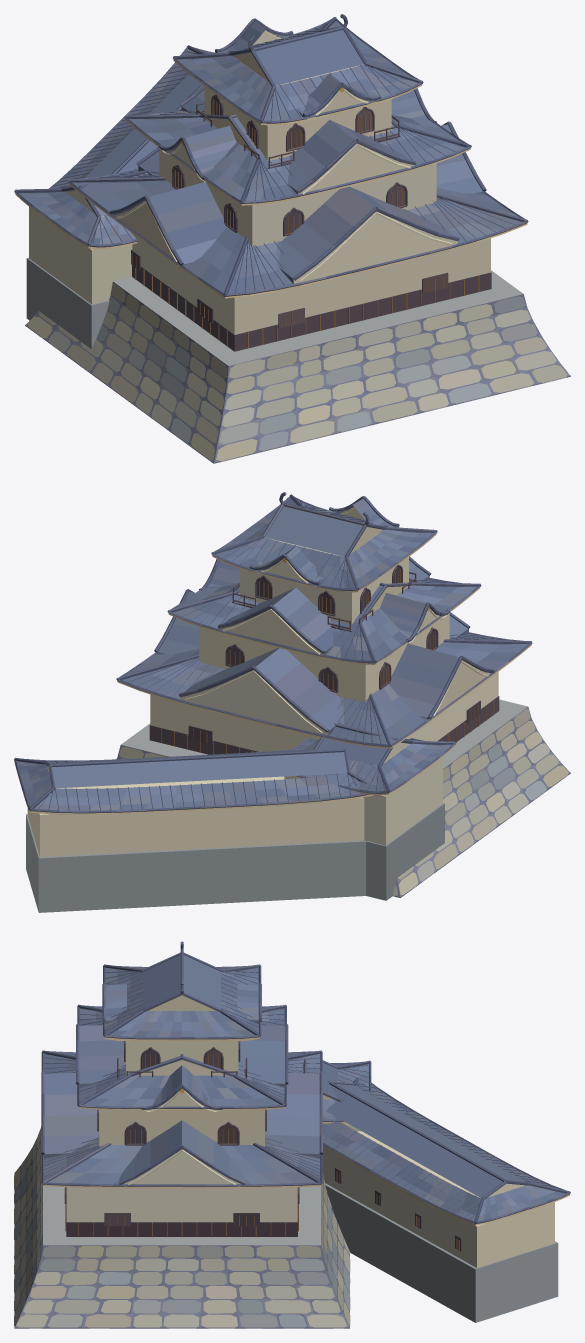
The model's file is ART_HikoneKeep.glb.
The picture shows the model from 3 angles, top to bottom: view 1: azimuth 30°, elevation 25°; view 2: azimuth 150°, elevation 25°; view 3: azimuth 270°, elevation 25°; orthographic projection. The views are drawn at different scales.
Parts seen in each view (by area): view 1: ART_HikoneKeep; view 2: ART_HikoneKeep; view 3: ART_HikoneKeep.
Part boxes in pixels (x1,y1,x2,y2): ART_HikoneKeep: (14, 14, 570, 463); ART_HikoneKeep: (14, 492, 570, 912); ART_HikoneKeep: (14, 941, 570, 1328).
Size of the model in its own units: 24.83 by 21.64 by 37.64.
